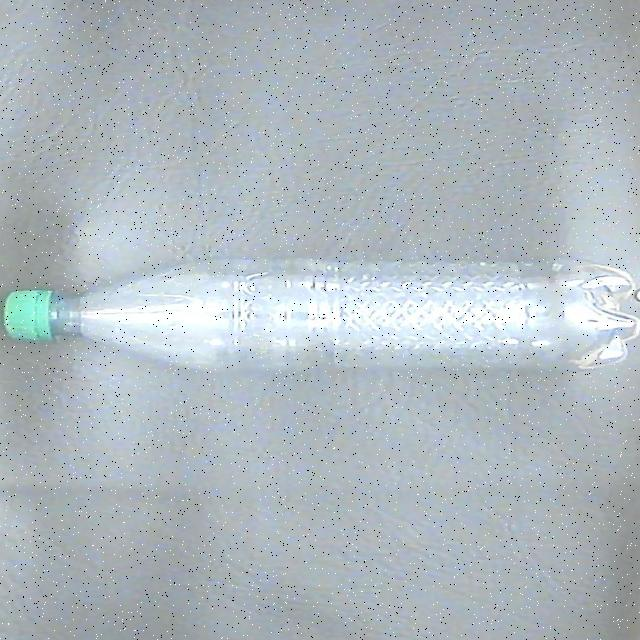plastic: (9, 250, 636, 374)
